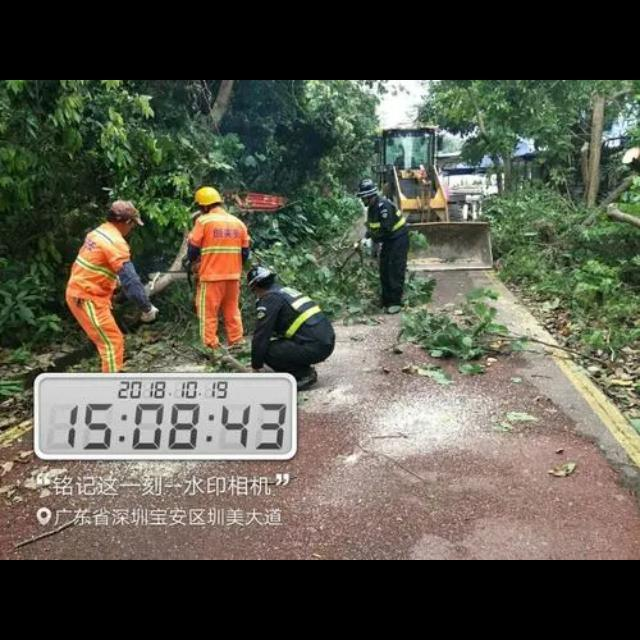fallen_tree: (128, 199, 376, 321), (517, 184, 639, 328)
